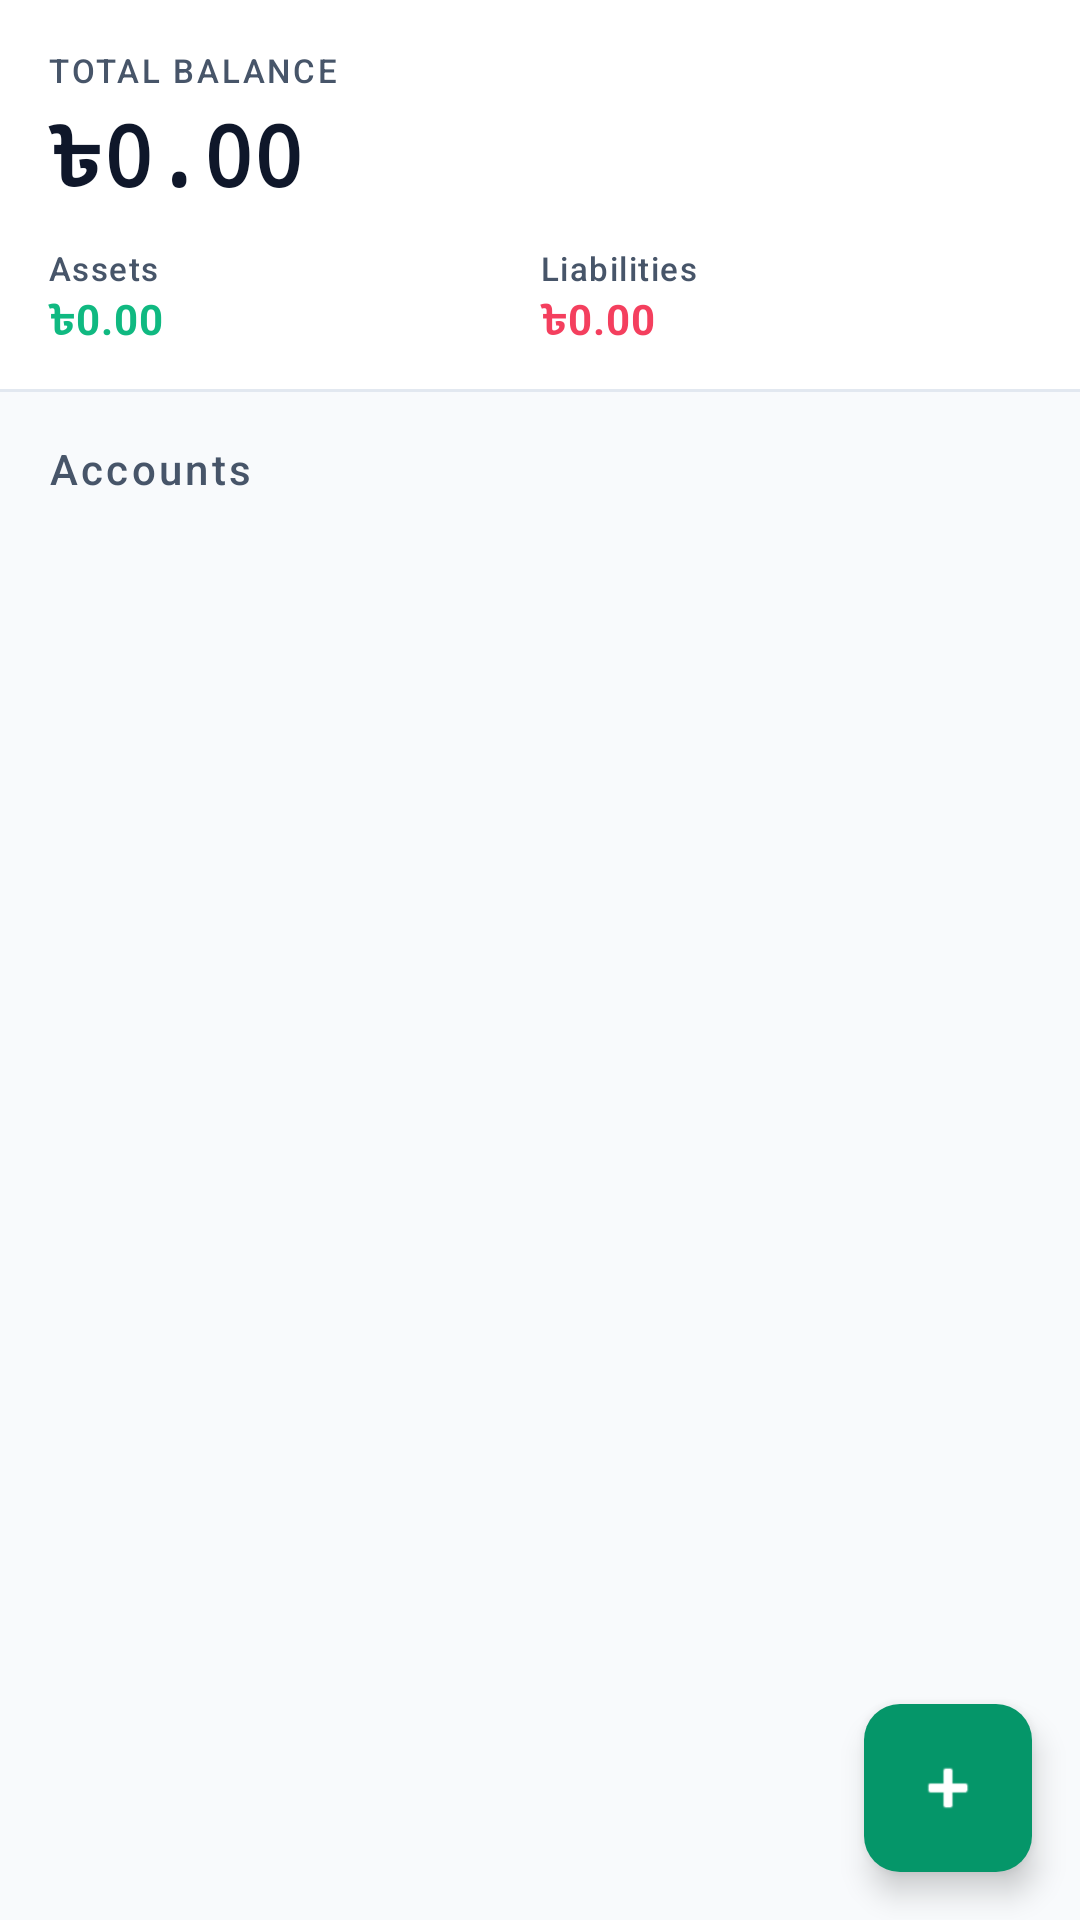

Screen size 1080×1920. Icon name, then its box in pixels as rect(x1, y1, x2, y2):
Add Account: rect(864, 1704, 1032, 1872)
